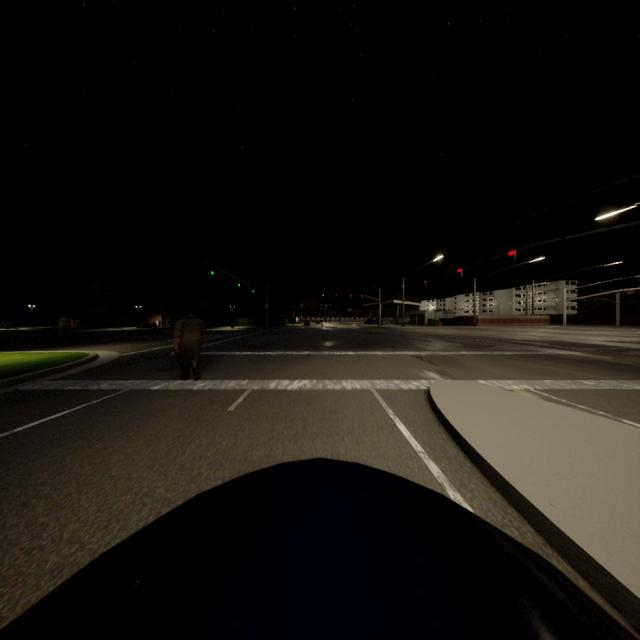Pedestrian: (174, 305, 202, 380)
Vehicle: (0, 458, 640, 640), (364, 318, 374, 324), (304, 320, 310, 326), (316, 320, 320, 324)
traffic_light: (508, 250, 516, 262), (457, 268, 463, 277), (211, 266, 214, 275), (424, 280, 427, 288), (238, 280, 240, 286), (252, 288, 254, 293), (350, 294, 352, 298), (361, 295, 363, 297)
